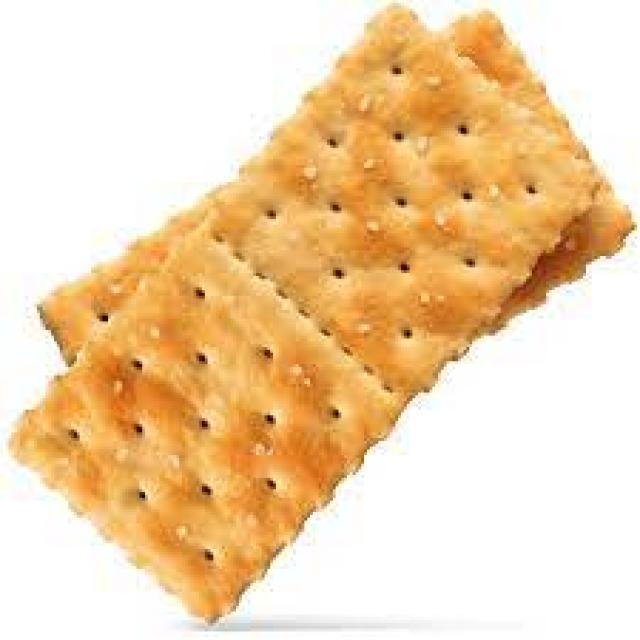Cracker: (37, 26, 586, 612)
